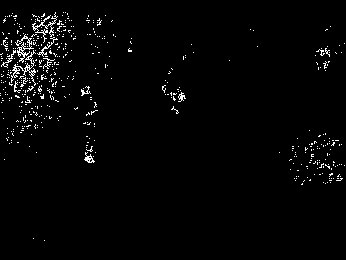person: (75, 84, 104, 163)
